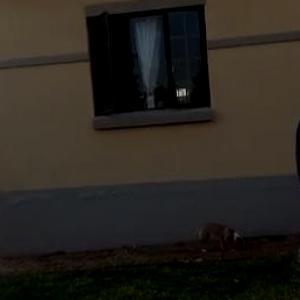follow: (287, 21, 300, 299)
null: (184, 217, 250, 256)
